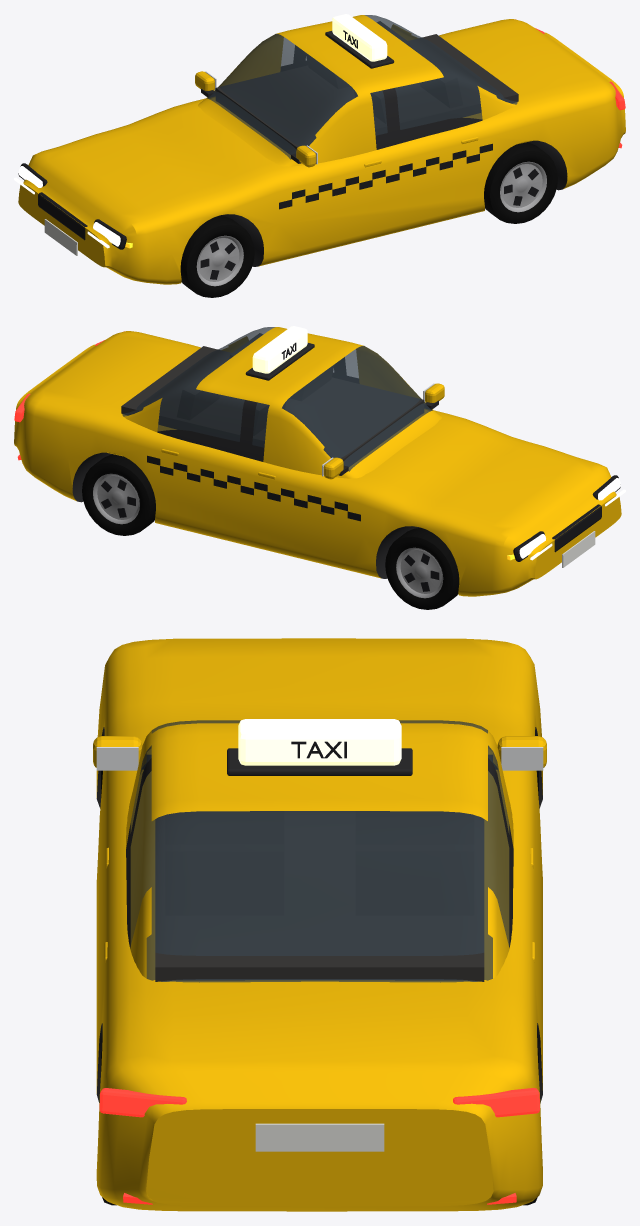
The model's file is taxi.glb.
The picture shows the model from 3 angles, top to bottom: view 1: azimuth 30°, elevation 25°; view 2: azimuth 150°, elevation 25°; view 3: azimuth 270°, elevation 25°; orthographic projection. The views are drawn at different scales.
Visible parts, largest first — view 1: taxi-body, wheel-fr, wheel-rr; view 2: taxi-body, wheel-fl, wheel-rl; view 3: taxi-body.
Boxes of the visible parts, x1,y1,x2,y2 form: taxi-body: [14, 14, 625, 284]; wheel-fr: [180, 216, 254, 297]; wheel-rr: [484, 142, 557, 223]; taxi-body: [14, 326, 625, 596]; wheel-fl: [385, 528, 459, 609]; wheel-rl: [82, 454, 155, 535]; taxi-body: [93, 638, 546, 1211].
Size of the model in its own units: 4.88 by 1.63 by 1.84.
Materials: 14 (2 with a texture image).
